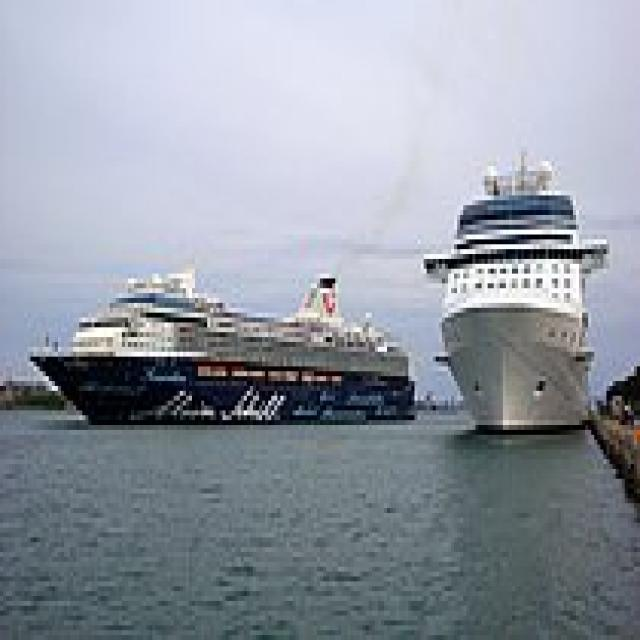Ship: (19, 246, 428, 441), (412, 138, 629, 451)
